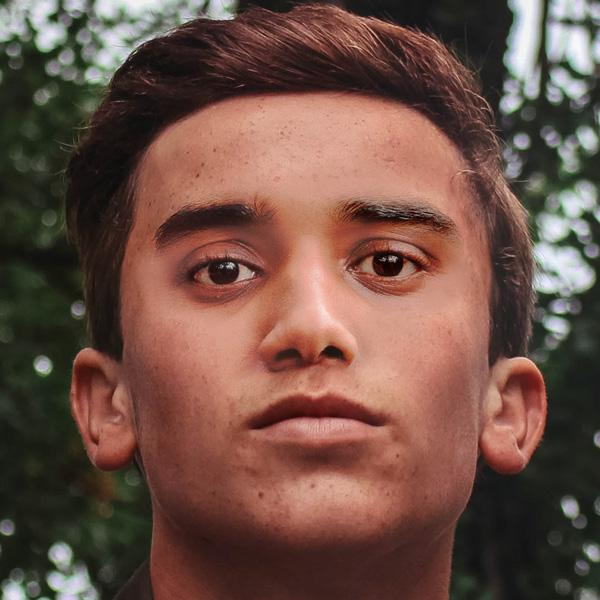Eyes: (334, 230, 448, 302), (171, 238, 274, 306)
